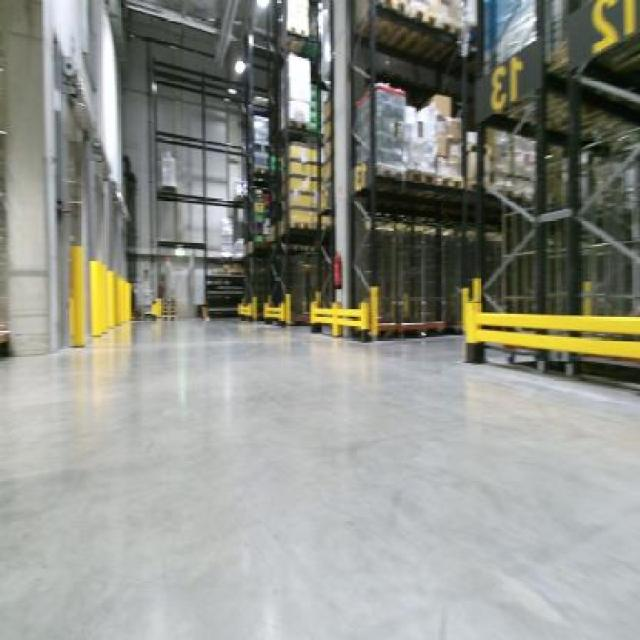ground: (0, 315, 638, 638)
pallet: (349, 0, 472, 68), (368, 159, 475, 188), (268, 216, 320, 242), (369, 321, 448, 338), (158, 294, 182, 322), (286, 24, 312, 42)
